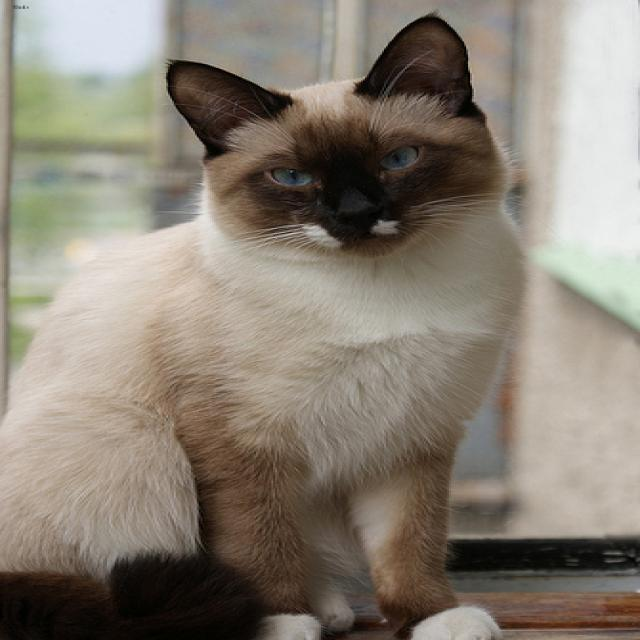Siamese: (157, 9, 519, 259)
